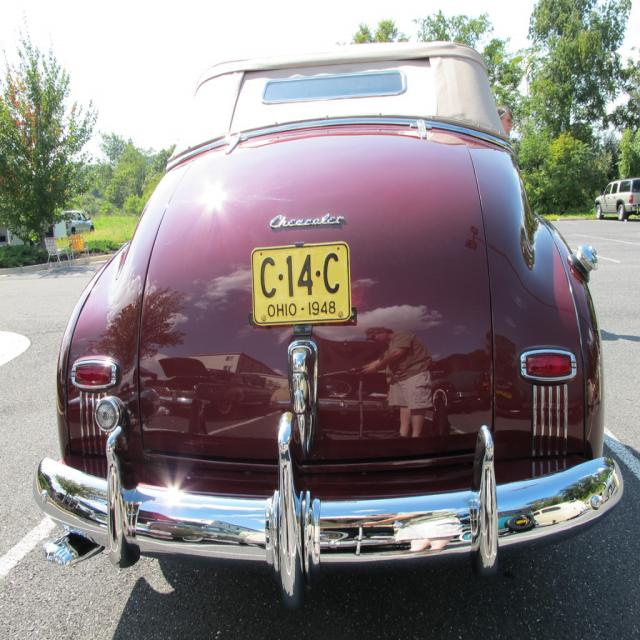other: (51, 59, 588, 611), (594, 175, 639, 217), (58, 203, 96, 237)
